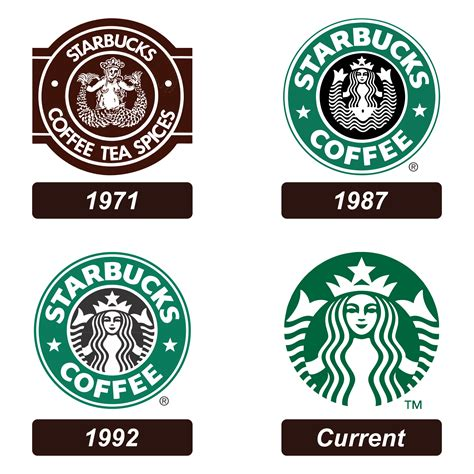starbucks Originale: (274, 241, 449, 415)
